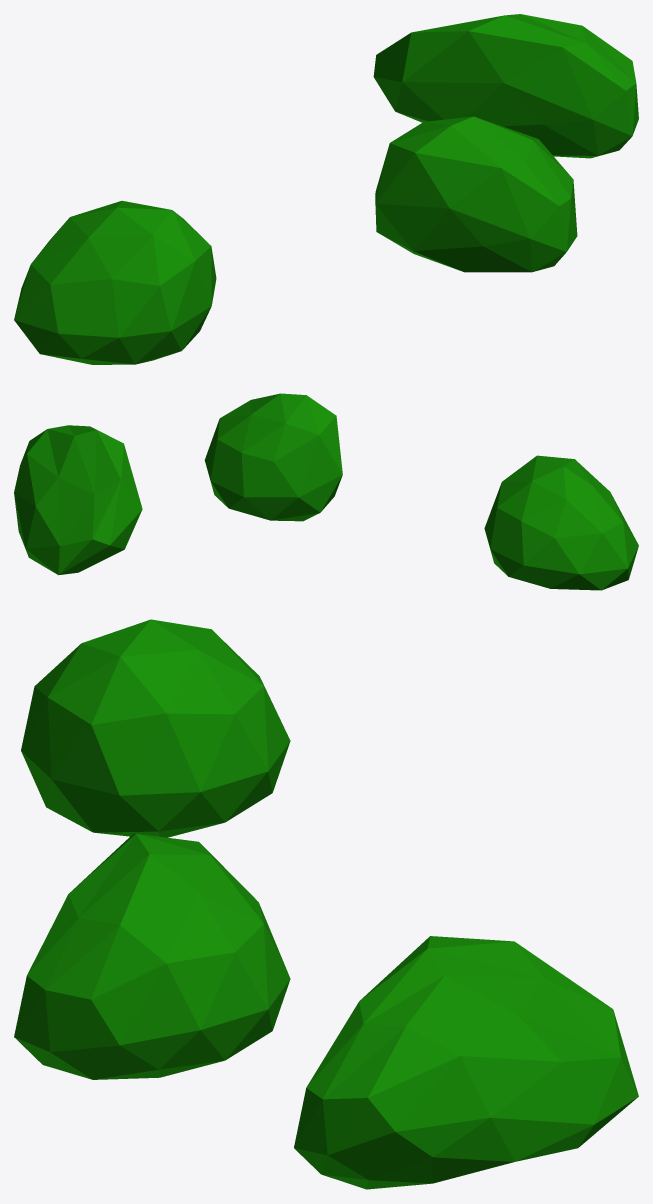
File: bush_2.fbx
3 views of the same model, one above another, from view 1: azimuth 30°, elevation 25°; view 2: azimuth 150°, elevation 25°; view 3: azimuth 270°, elevation 25° (orthographic). The views are drawn at different scales.
Visible parts, largest first — view 1: pasted__Icosphere.049, pasted__Icosphere.045, pasted__Icosphere.046; view 2: pasted__Icosphere.045, pasted__Icosphere.049, pasted__Icosphere.046; view 3: pasted__Icosphere.049, pasted__Icosphere.046, pasted__Icosphere.045.
Boxes of the visible parts, <box> form: pasted__Icosphere.049: <box>373,14,638,158</box>; pasted__Icosphere.045: <box>14,200,216,364</box>; pasted__Icosphere.046: <box>375,116,577,272</box>; pasted__Icosphere.045: <box>484,455,638,590</box>; pasted__Icosphere.049: <box>14,425,142,575</box>; pasted__Icosphere.046: <box>204,393,342,521</box>; pasted__Icosphere.049: <box>294,936,638,1189</box>; pasted__Icosphere.046: <box>14,833,290,1079</box>; pasted__Icosphere.045: <box>21,619,290,837</box>.
Bounding box in the file's own units: 123 × 25.69 × 69.95.
